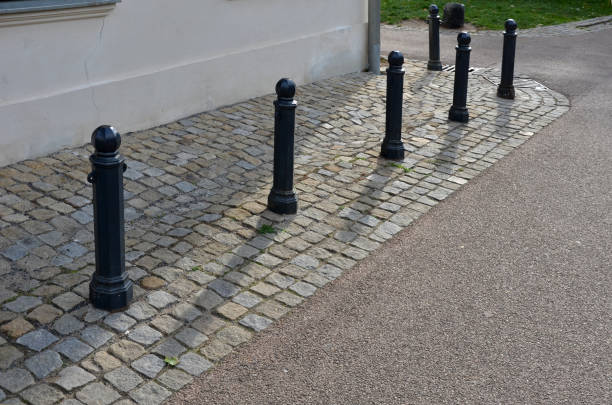bollard: (78, 120, 136, 318), (259, 75, 310, 218), (376, 50, 414, 163), (447, 29, 477, 124), (496, 18, 526, 103), (423, 4, 448, 74)
